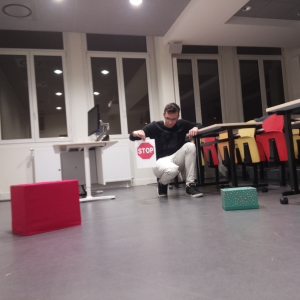stop: (136, 142, 154, 160)
